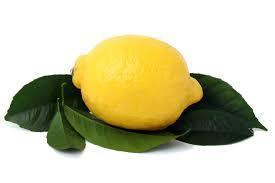lemon: (72, 34, 203, 130)
